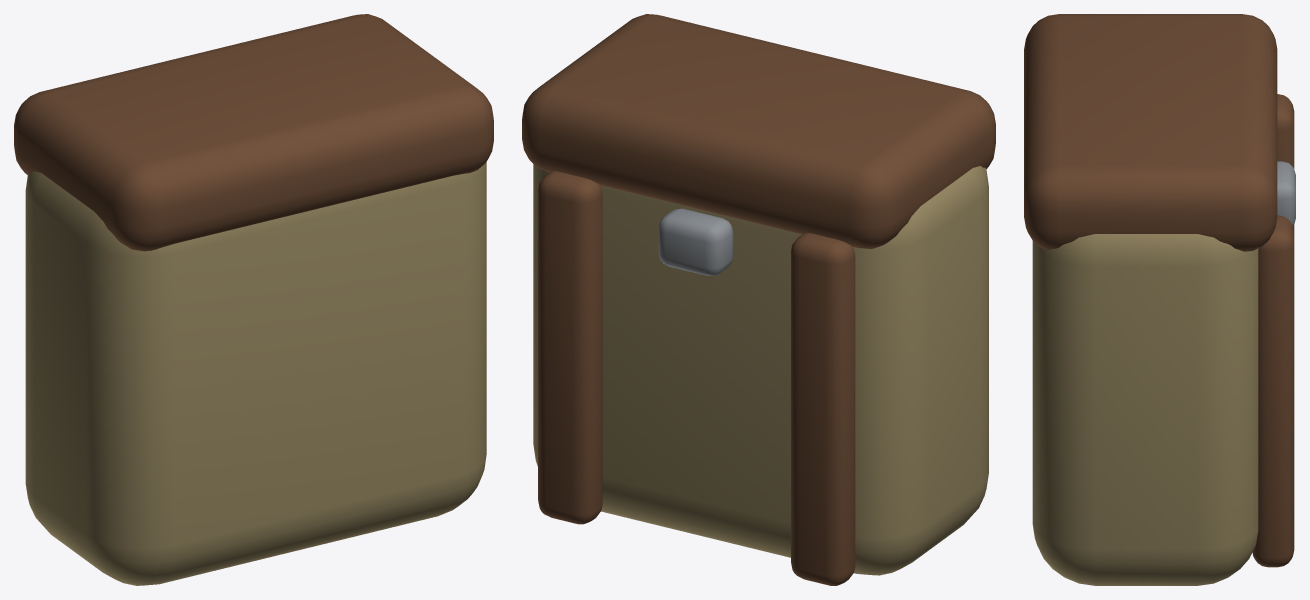
The model's file is part_backpack.glb.
3 renders of one model, left to right at view 1: azimuth 30°, elevation 25°; view 2: azimuth 150°, elevation 25°; view 3: azimuth 270°, elevation 25°, orthographic. The views are drawn at different scales.
Parts seen in each view (by area): view 1: Pack_Body, Pack_Flap; view 2: Pack_Body, Pack_Flap, Pack_Strap_R, Pack_Strap_L, Pack_Buckle; view 3: Pack_Body, Pack_Flap, Pack_Strap_R, Pack_Strap_L, Pack_Buckle.
Part boxes in pixels (bbox=[...]): Pack_Body: bbox=[25, 162, 486, 585]; Pack_Flap: bbox=[14, 14, 493, 251]; Pack_Body: bbox=[533, 164, 988, 575]; Pack_Flap: bbox=[522, 14, 995, 249]; Pack_Strap_R: bbox=[538, 171, 602, 524]; Pack_Strap_L: bbox=[791, 232, 855, 585]; Pack_Buckle: bbox=[658, 208, 733, 275]; Pack_Body: bbox=[1032, 234, 1258, 585]; Pack_Flap: bbox=[1024, 14, 1277, 251]; Pack_Strap_R: bbox=[1252, 215, 1294, 567]; Pack_Strap_L: bbox=[1277, 94, 1294, 231]; Pack_Buckle: bbox=[1277, 161, 1295, 225].
Size of the model in its own units: 0.52 by 0.553 by 0.322.
